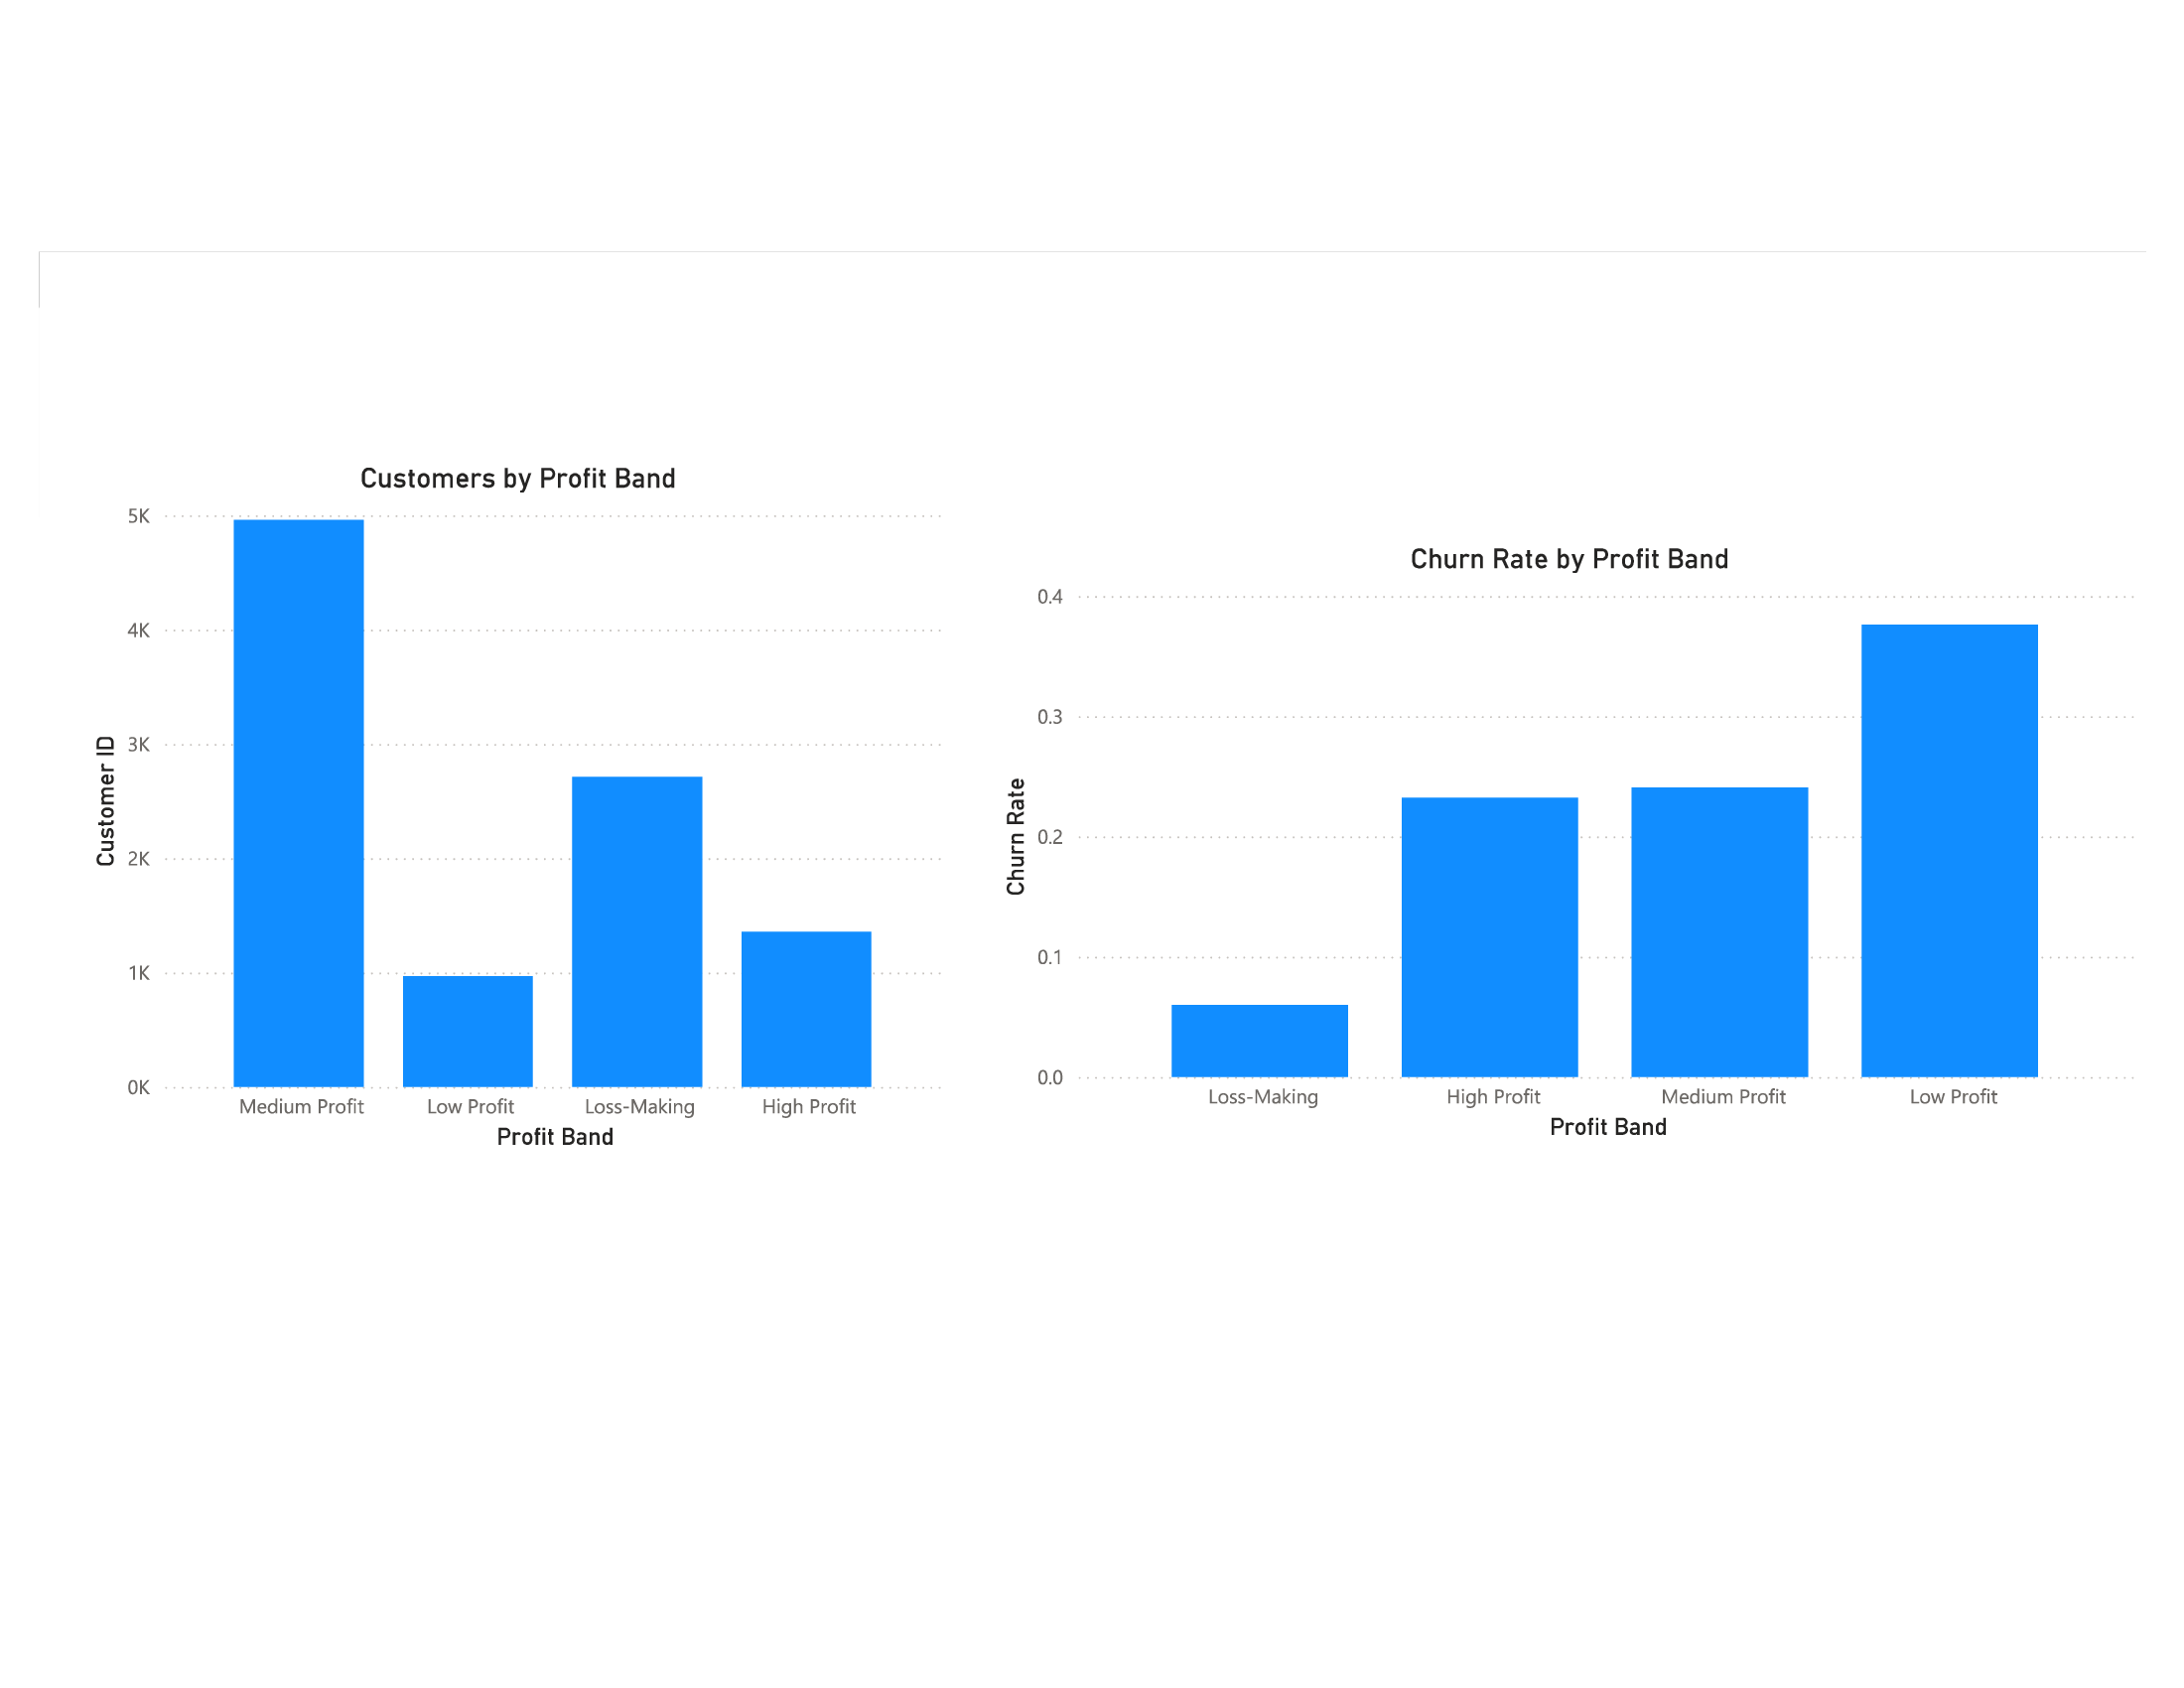

The page's visual inventory and layout, read from the dashboard file:
{"tool":"powerbi","page":{"name":"Profitability and Segmentation","canvas":[1280,720],"ordinal":1},"visuals":[{"type":"clusteredColumnChart","title":"Customers by Profit Band","fields":{"Category":["bank_analytics vw_profitability.Profit Band"],"Y":["CountNonNull(bank_analytics vw_profitability.customer_id)"]},"box":[26.9,127,528.4,423.2],"z":0},{"type":"clusteredColumnChart","fields":{"Y":["bank_analytics vw_customer_profile.Churn Rate"],"Category":["bank_analytics vw_profitability.Profit Band"]},"box":[579.7,175.7,700.3,368.1],"z":1000}]}

Visuals, with their boxes on the page's 1280x720 design canvas (x1, y1, x2, y2). These are canvas units, not pixel positions in the 2184x1688 screenshot, which may show the page scaled, cropped or inside an application window:
"Customers by Profit Band" clusteredColumnChart: box=[27, 127, 555, 550]
clusteredColumnChart - bank_analytics vw_customer_profile.Churn Rate x bank_analytics vw_profitability.Profit Band: box=[580, 176, 1280, 544]
